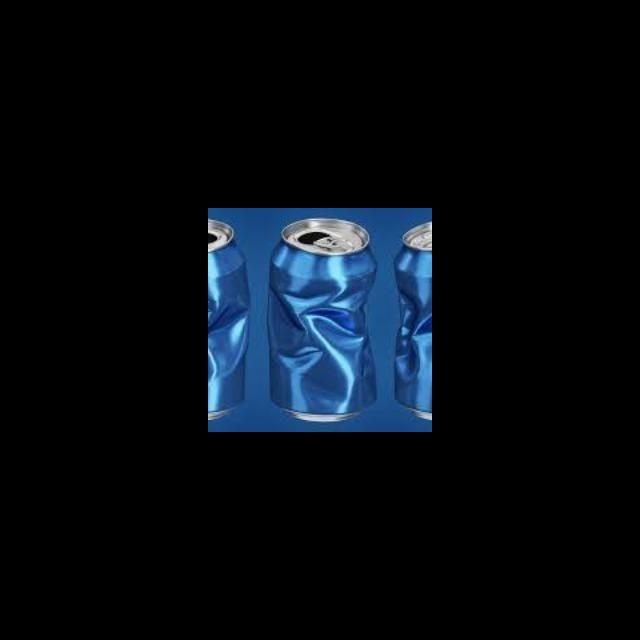metal: (259, 215, 381, 423), (389, 208, 432, 424), (208, 213, 250, 428)
